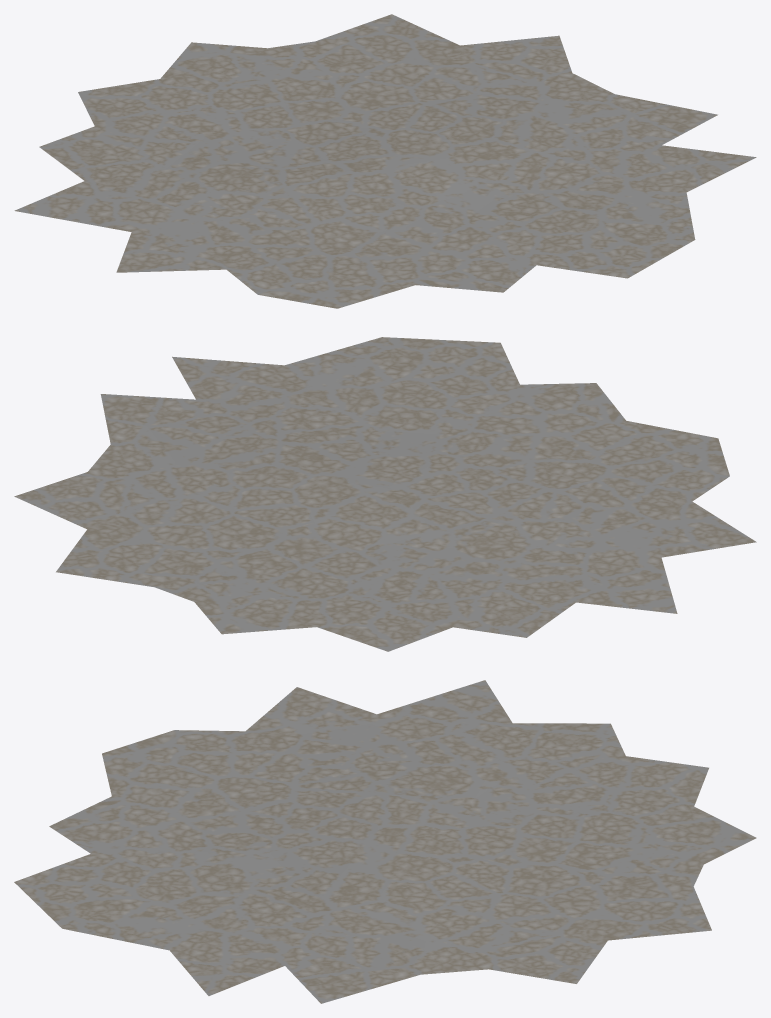
The model's file is Landscape-1.fbx.
3 views of the same model, one above another, from view 1: azimuth 30°, elevation 25°; view 2: azimuth 150°, elevation 25°; view 3: azimuth 270°, elevation 25° (orthographic). The views are drawn at different scales.
Parts seen in each view (by area): view 1: Landscape-1; view 2: Landscape-1; view 3: Landscape-1.
Boxes of the visible parts, x1=… form: Landscape-1: x1=14, y1=14, x2=756, y2=308; Landscape-1: x1=14, y1=337, x2=756, y2=651; Landscape-1: x1=14, y1=680, x2=756, y2=1003.
Bounding box in the file's own units: 80.16 × 0.3867 × 77.73.
1 material, 1 textured.
